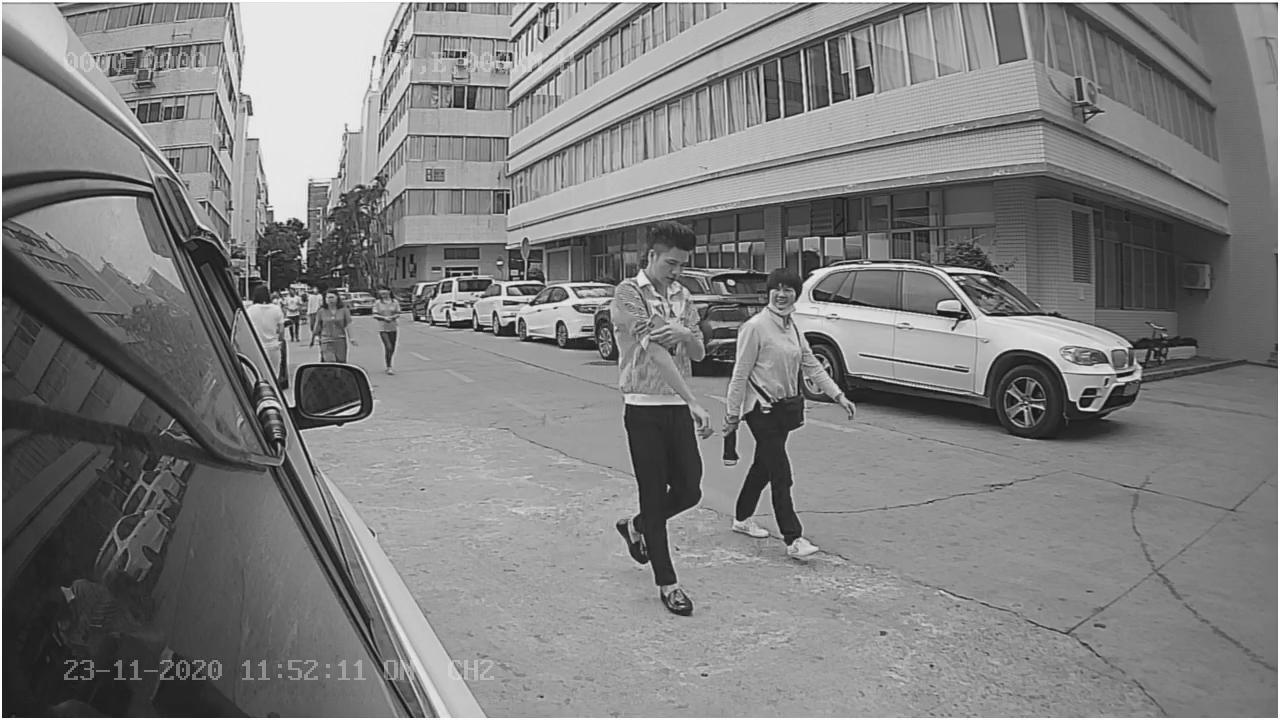person: (720, 249, 855, 562), (609, 220, 711, 615)
